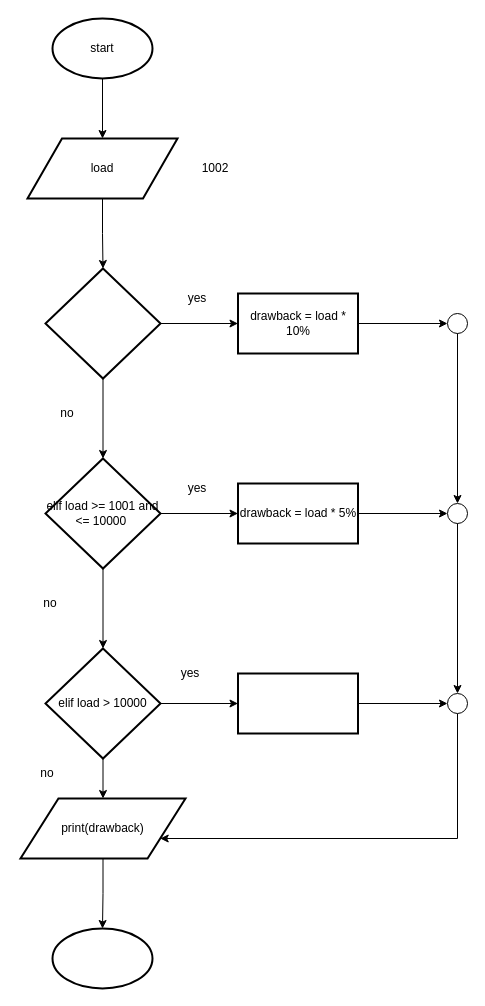
Image size: 485x1006. Some labels were removed from this diagram. Here are the shapes that lost their labels. From the top down, the centre of each, then its label:
(x=102, y=323): if load >= 1 and <= 1000
(x=297, y=703): drawback = load * 2%
(x=102, y=958): end
